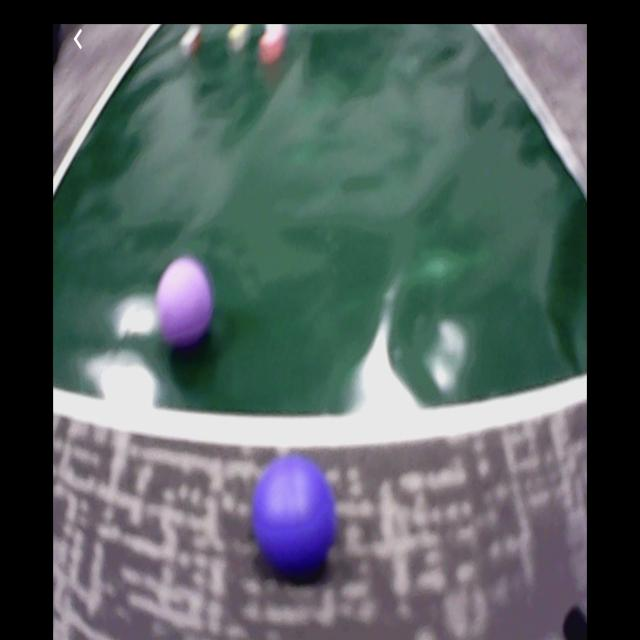ball: (253, 458, 336, 572), (157, 259, 215, 347)
